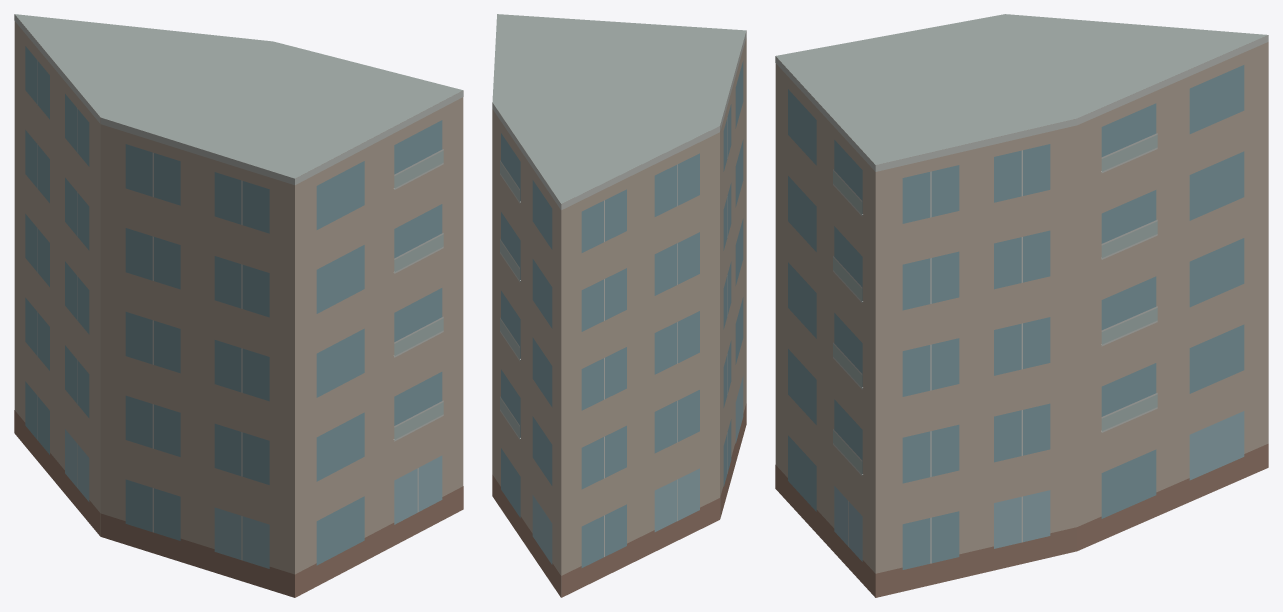
The model's file is survey-upis-32476630.glb.
3 renders of one model, left to right at view 1: azimuth 30°, elevation 25°; view 2: azimuth 150°, elevation 25°; view 3: azimuth 270°, elevation 25°, orthographic. The views are drawn at different scales.
Parts seen in each view (by area): view 1: survey-upis-32476630.tmp; view 2: survey-upis-32476630.tmp; view 3: survey-upis-32476630.tmp.
Part boxes in pixels (box(x1,y1,x2,y2)): survey-upis-32476630.tmp: box(14, 14, 463, 597); survey-upis-32476630.tmp: box(492, 14, 746, 597); survey-upis-32476630.tmp: box(775, 14, 1268, 597).
Size of the model in its own units: 11.55 by 15.4 by 15.91.
